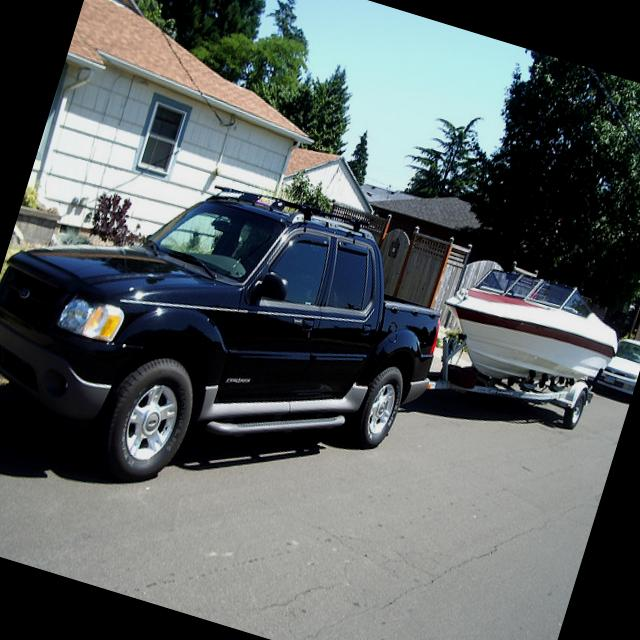Vehicle: (0, 125, 468, 551), (595, 332, 640, 397)
